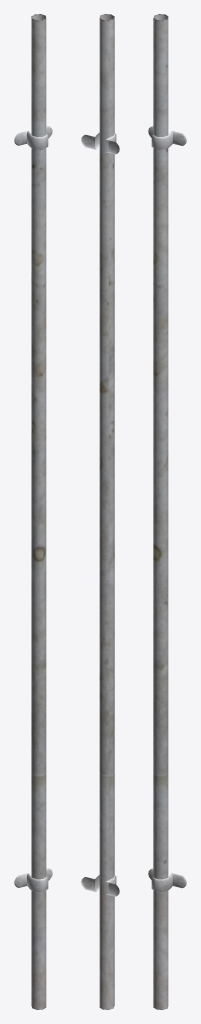
Rendered from SM_Pipe_200_Straight_Horizontal_01a.glb.
The picture shows the model from 3 angles, left to right: view 1: azimuth 30°, elevation 25°; view 2: azimuth 150°, elevation 25°; view 3: azimuth 330°, elevation 25°; orthographic projection.
Visible parts, largest first — view 1: SM_Pipe_200_Straight_Horizontal_01a; view 2: SM_Pipe_200_Straight_Horizontal_01a; view 3: SM_Pipe_200_Straight_Horizontal_01a.
Boxes of the visible parts, box(x1,y1,x2,y2) form: SM_Pipe_200_Straight_Horizontal_01a: box(14, 14, 52, 1009); SM_Pipe_200_Straight_Horizontal_01a: box(81, 14, 119, 1009); SM_Pipe_200_Straight_Horizontal_01a: box(148, 14, 186, 1009).
Bounding box in the file's own units: 0.0815 × 2 × 0.0398.
1 material, 1 textured.
